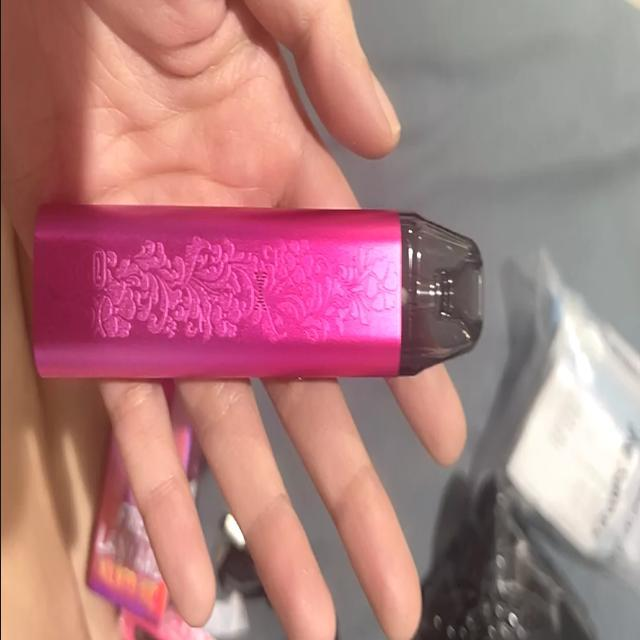Hazard: (30, 196, 481, 382)
